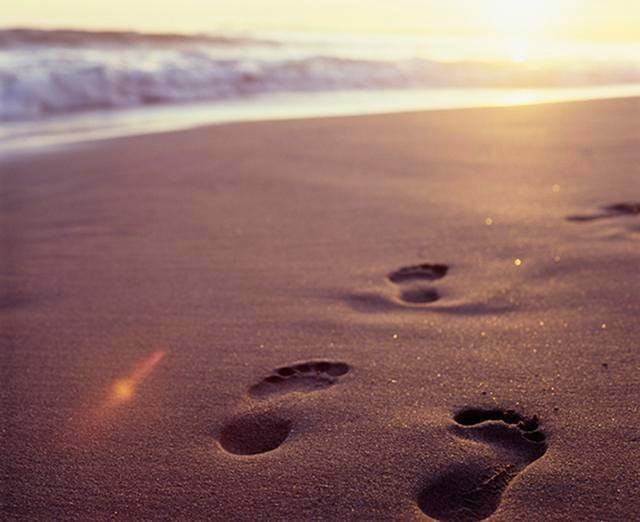human_foot_print: (397, 392, 556, 513), (216, 344, 347, 463), (384, 255, 454, 311)
